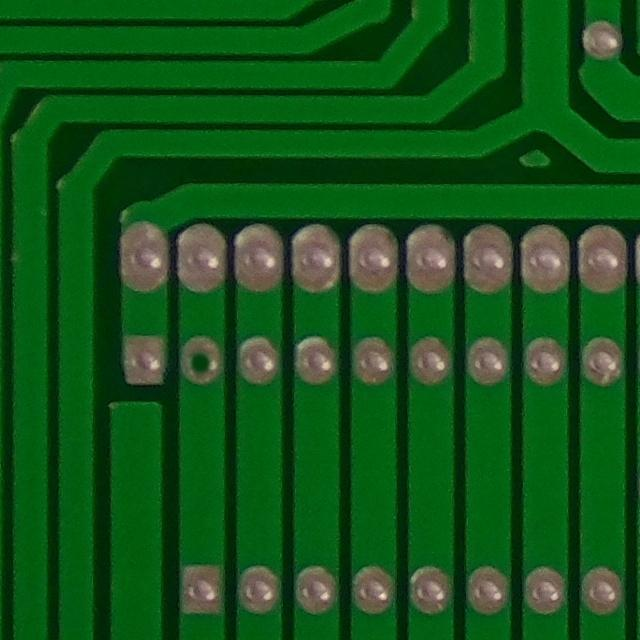missing_hole: (175, 324, 228, 401)
